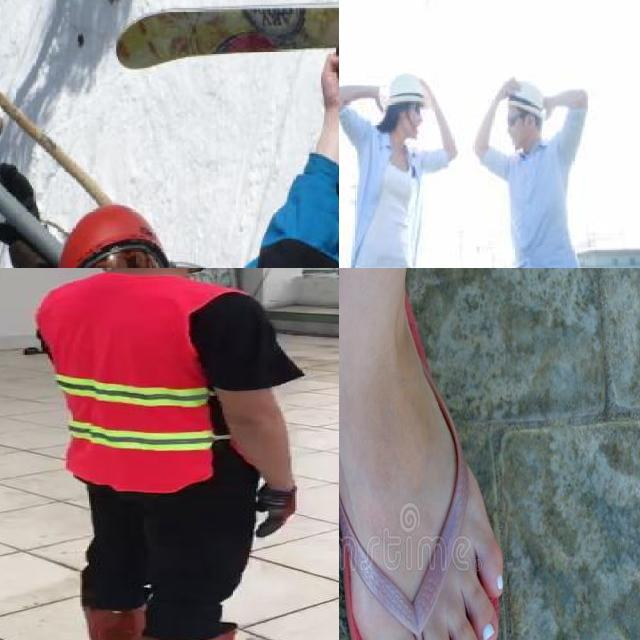Sandals: (339, 268, 500, 640)
boots: (81, 604, 142, 640)
face_nomask: (504, 106, 526, 150), (405, 99, 425, 137)
glasses: (66, 234, 172, 268), (506, 112, 522, 128)
hand_glove: (252, 487, 298, 538)
hand_noglove: (314, 38, 339, 109)
head_helmet: (47, 204, 171, 268)
head_nohelmet: (382, 70, 433, 106), (506, 79, 550, 114)
person: (29, 268, 322, 640), (0, 35, 339, 268), (471, 70, 599, 268), (339, 66, 456, 268)
vest: (39, 273, 228, 493)
